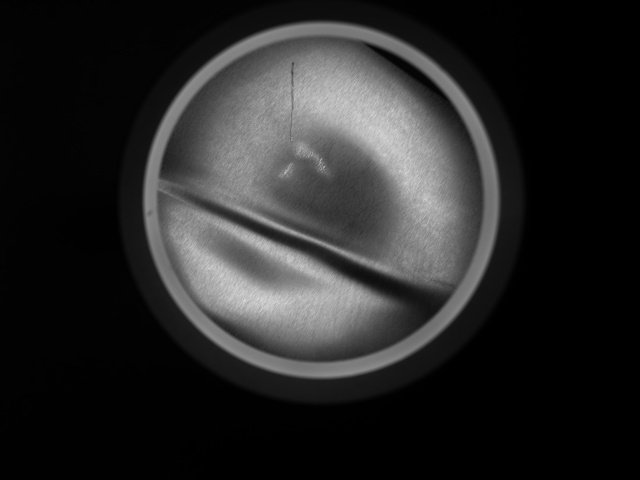ca_shang: (282, 56, 309, 146)
zhe_zhou: (206, 62, 433, 339)
